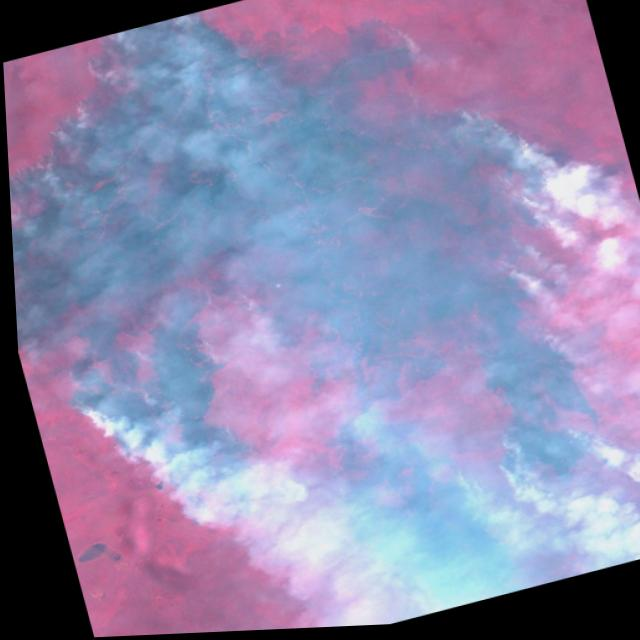fire: (4, 64, 640, 640)
